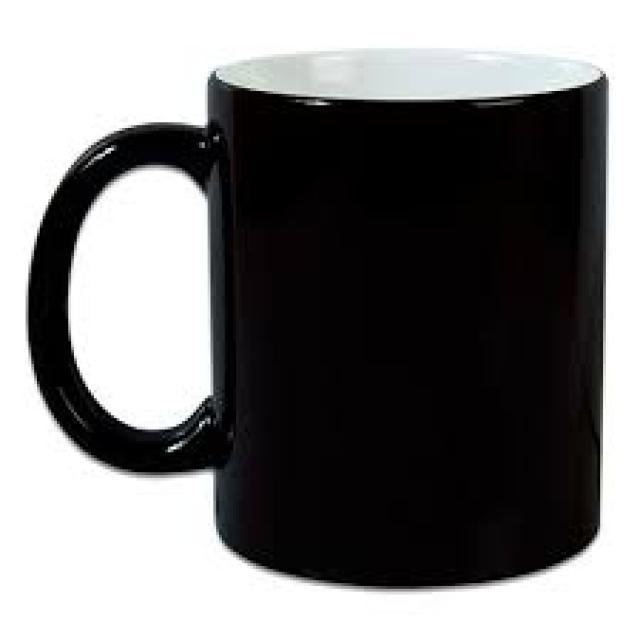taza: (27, 46, 609, 591)
